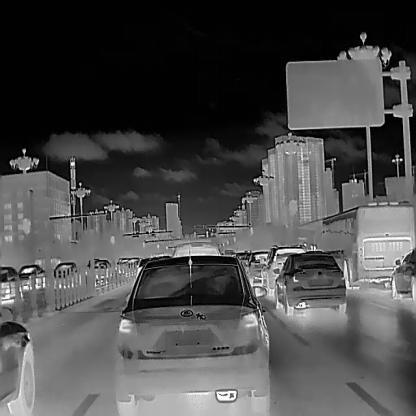car: (118, 255, 268, 414), (318, 199, 415, 288), (274, 251, 346, 315), (0, 307, 34, 415), (265, 245, 305, 290), (391, 247, 415, 299), (0, 264, 23, 304), (18, 264, 46, 293), (52, 261, 77, 288), (85, 258, 113, 282), (247, 250, 269, 279)
